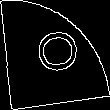O_W: (29, 30, 81, 80)
